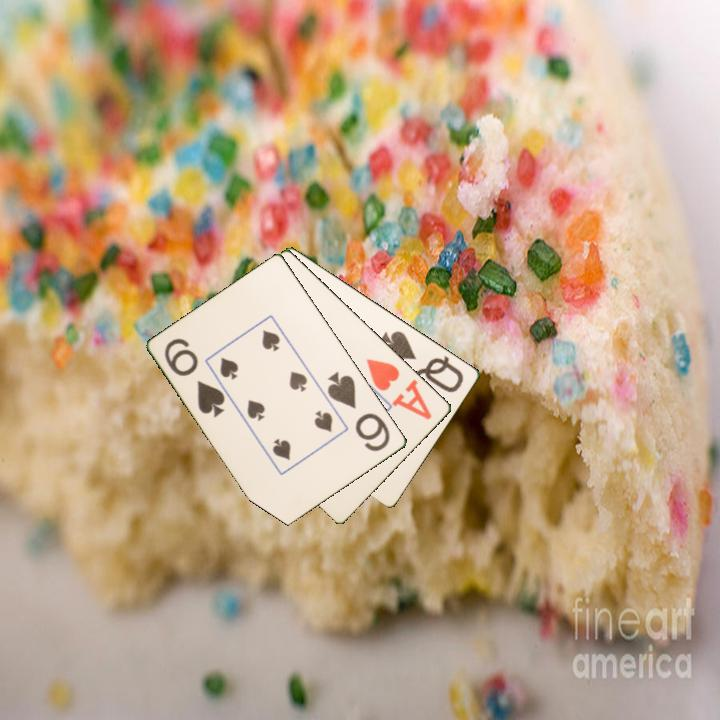6s: (324, 368, 393, 455), (161, 334, 228, 421)
Ah: (363, 355, 435, 423)
Qs: (377, 327, 467, 396)
